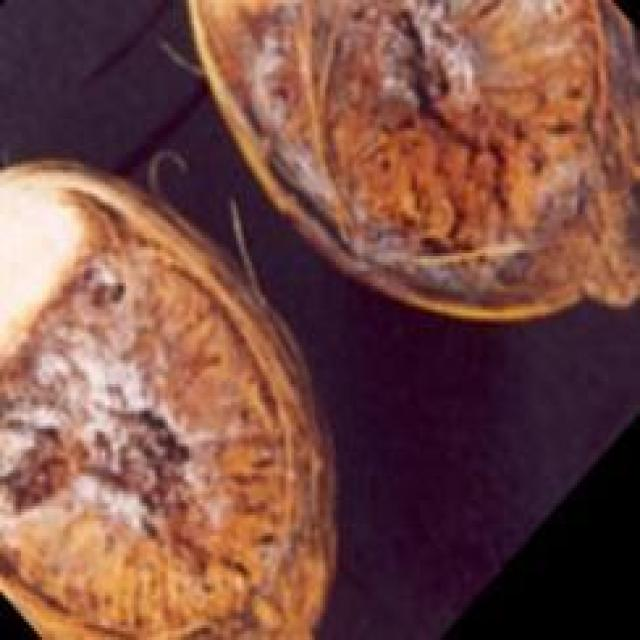damaged: (0, 155, 338, 637), (184, 0, 637, 327)
